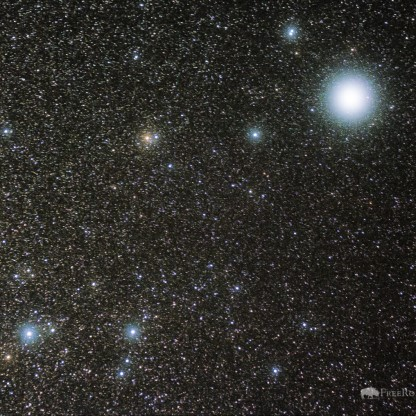Lyra: (306, 56, 388, 136), (13, 317, 44, 350), (118, 317, 145, 350), (238, 120, 269, 147), (133, 120, 161, 149), (276, 19, 303, 47)
